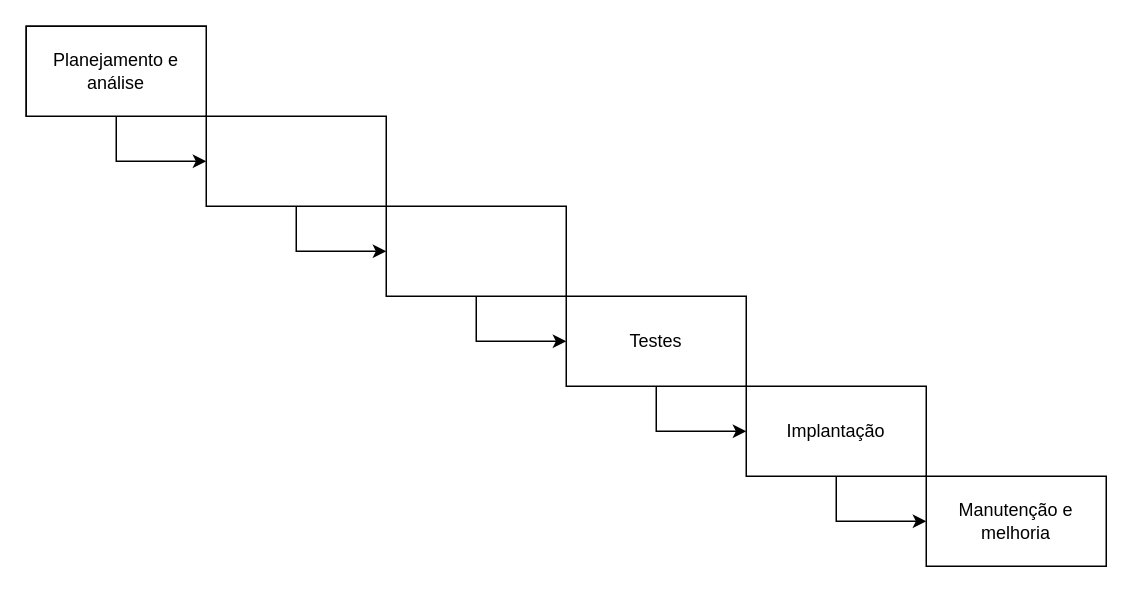
The diagram is 1133 pixels wide and 593 high, and some of its shapes have lost their labels. Each missing label, with the centre of its shape:
Desenvolvimento: (475,250)
Design: (295,160)
